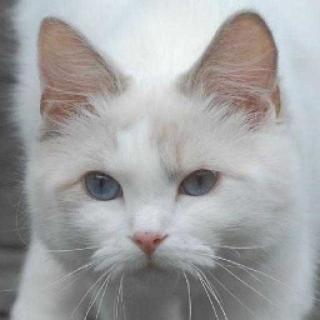cat: (27, 17, 282, 288)
nose: (128, 206, 178, 261)
